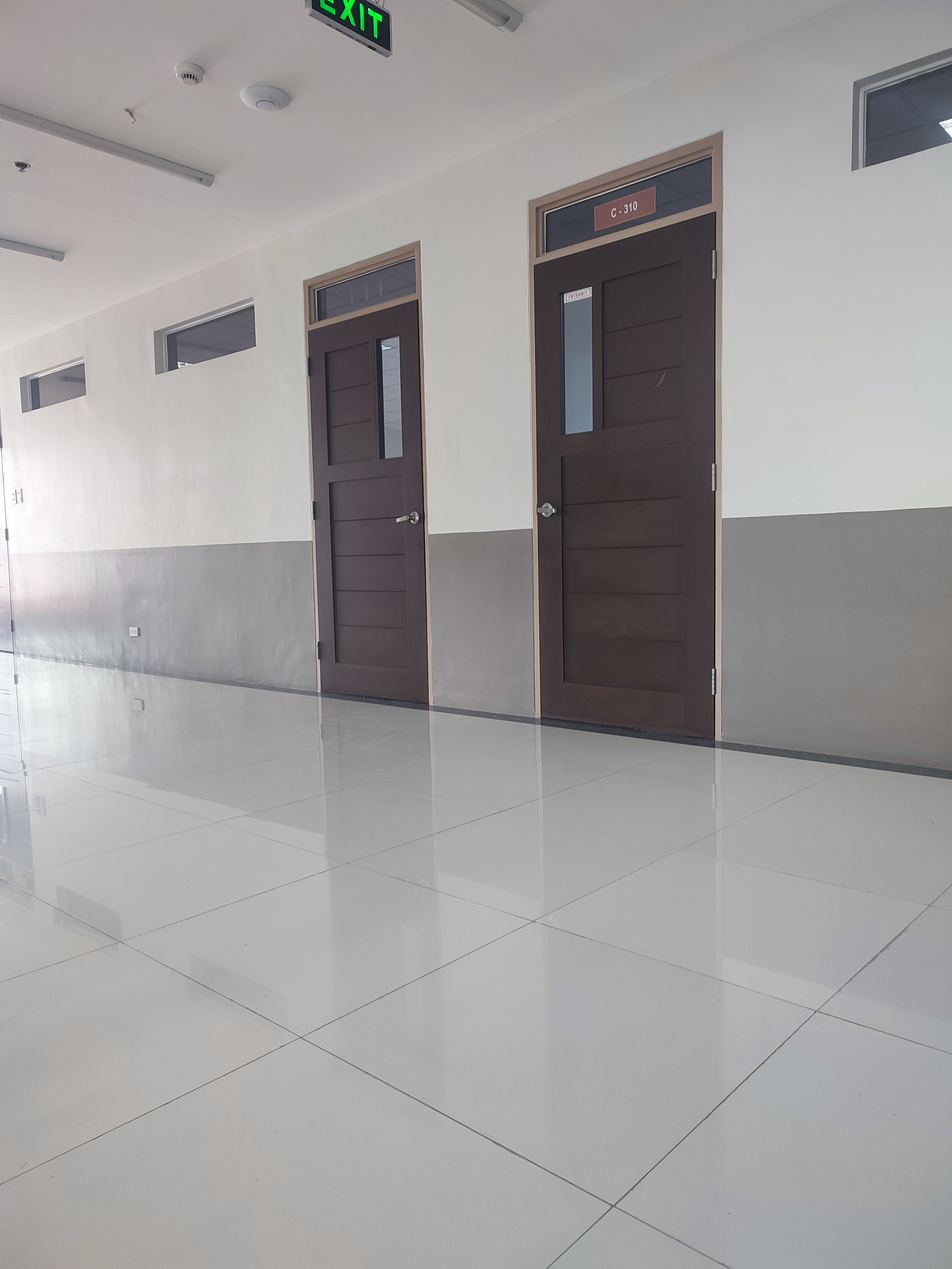door: (526, 131, 724, 749), (304, 244, 428, 709)
